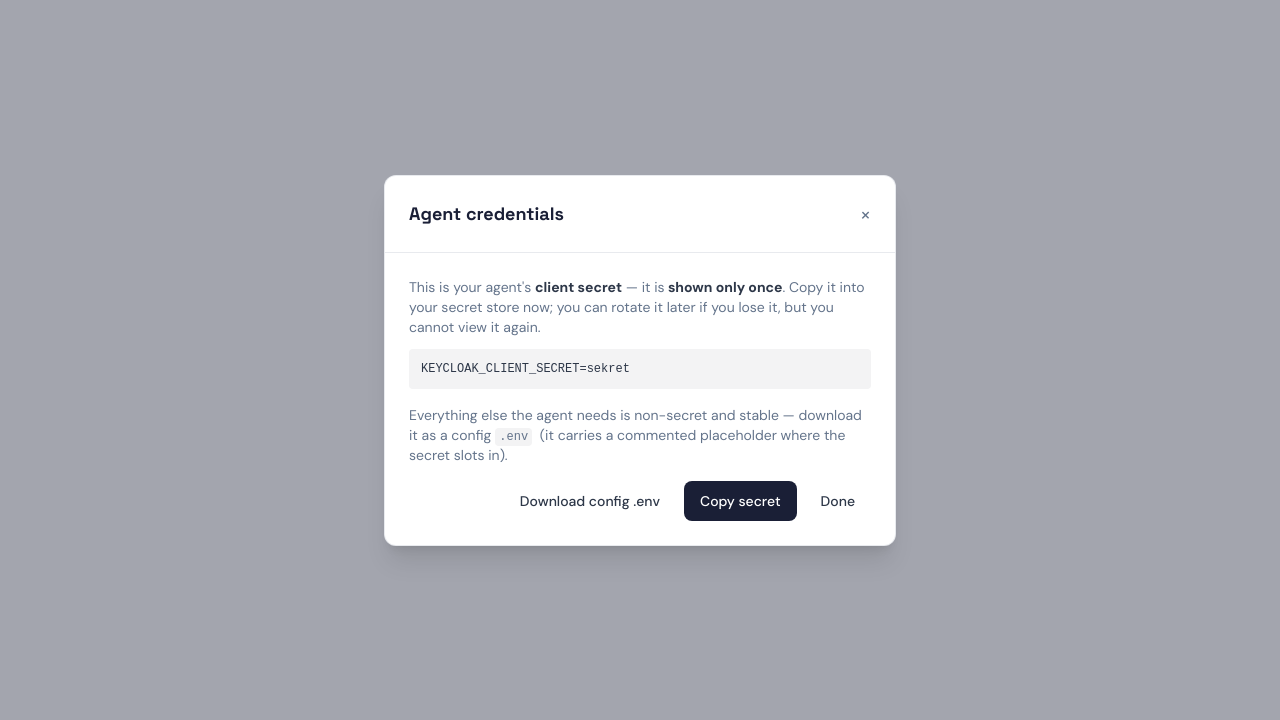
Test: RevealCredentialsModal › surfaces a visible error when copying the secret fails (no silent swallow)
Click the button "Copy secret" at (740, 500), box [684, 480, 796, 520]
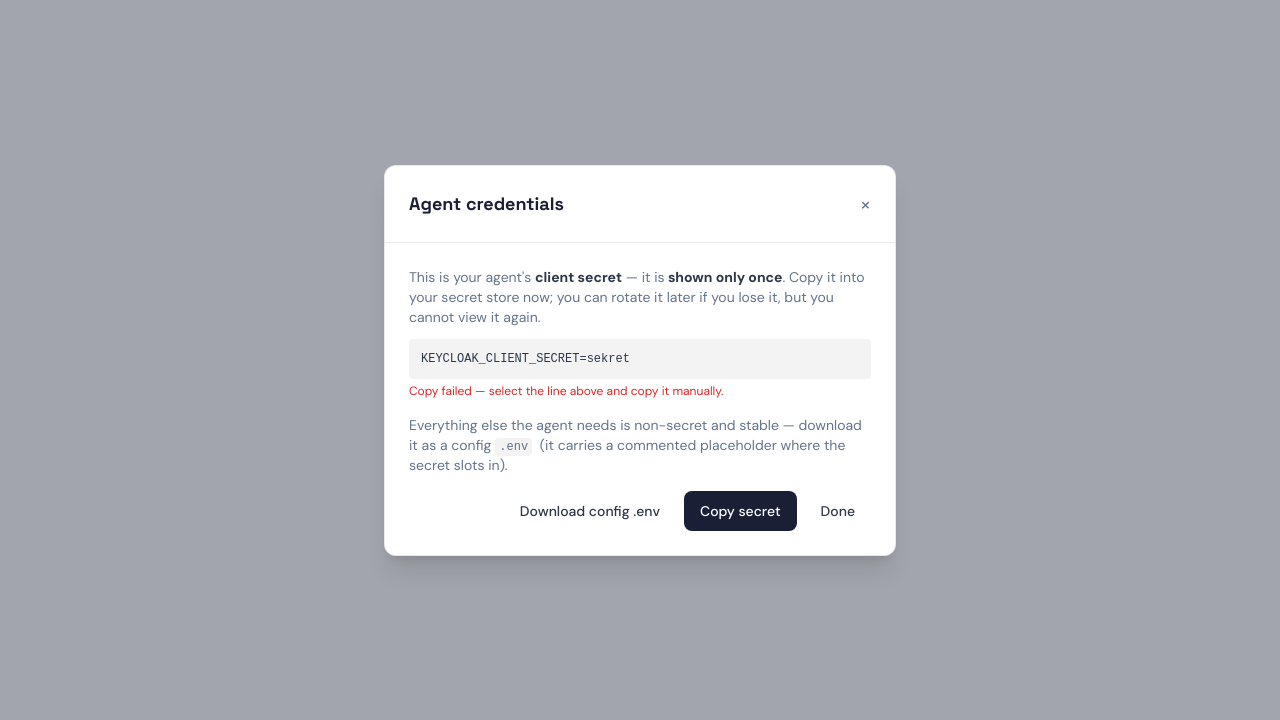
Expected: the message shows "Copy failed", [409, 382, 724, 398]
